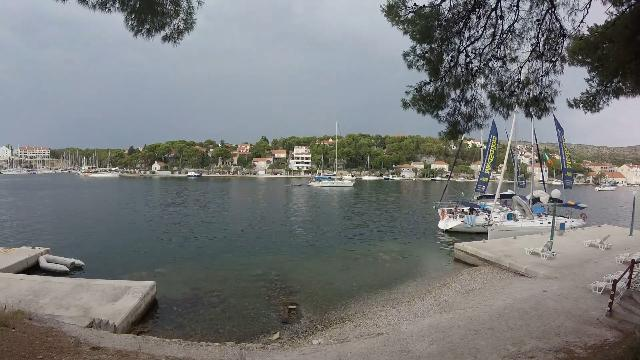Sailboat: (306, 174, 356, 192)
